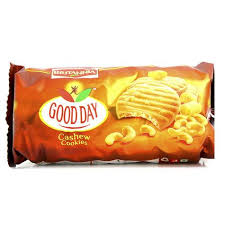gooday-medium: (8, 64, 215, 165)
